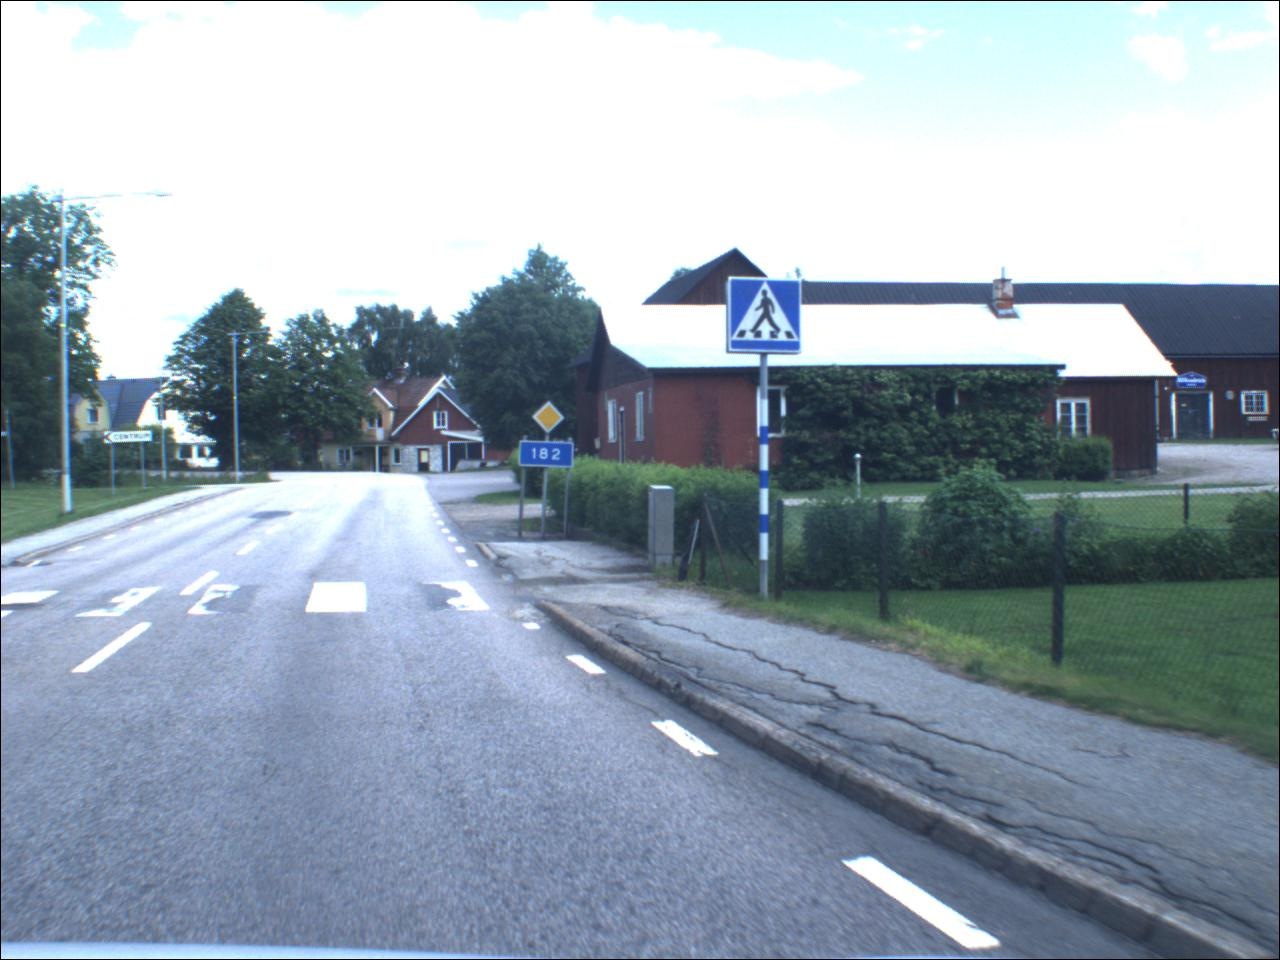PEDESTRIAN_CROSSING: (728, 276, 804, 359)
PRIORITY_ROAD: (531, 402, 566, 436)
